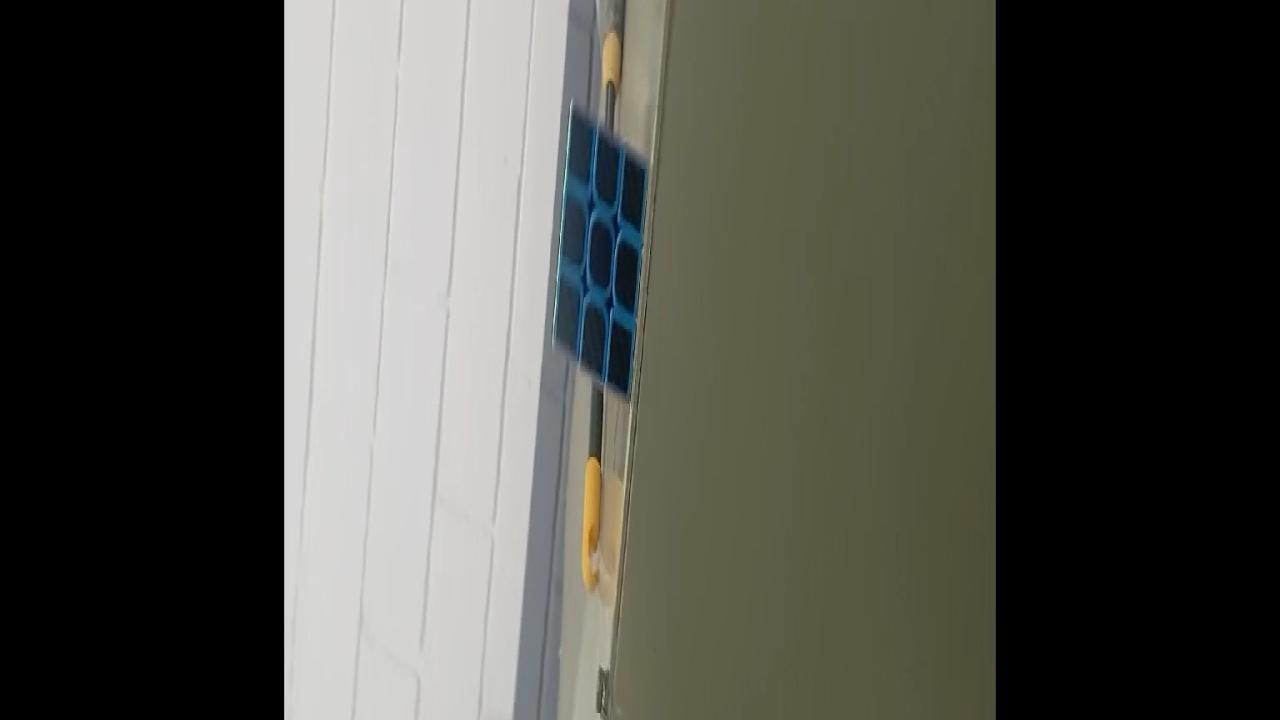Cube: (550, 99, 649, 409)
